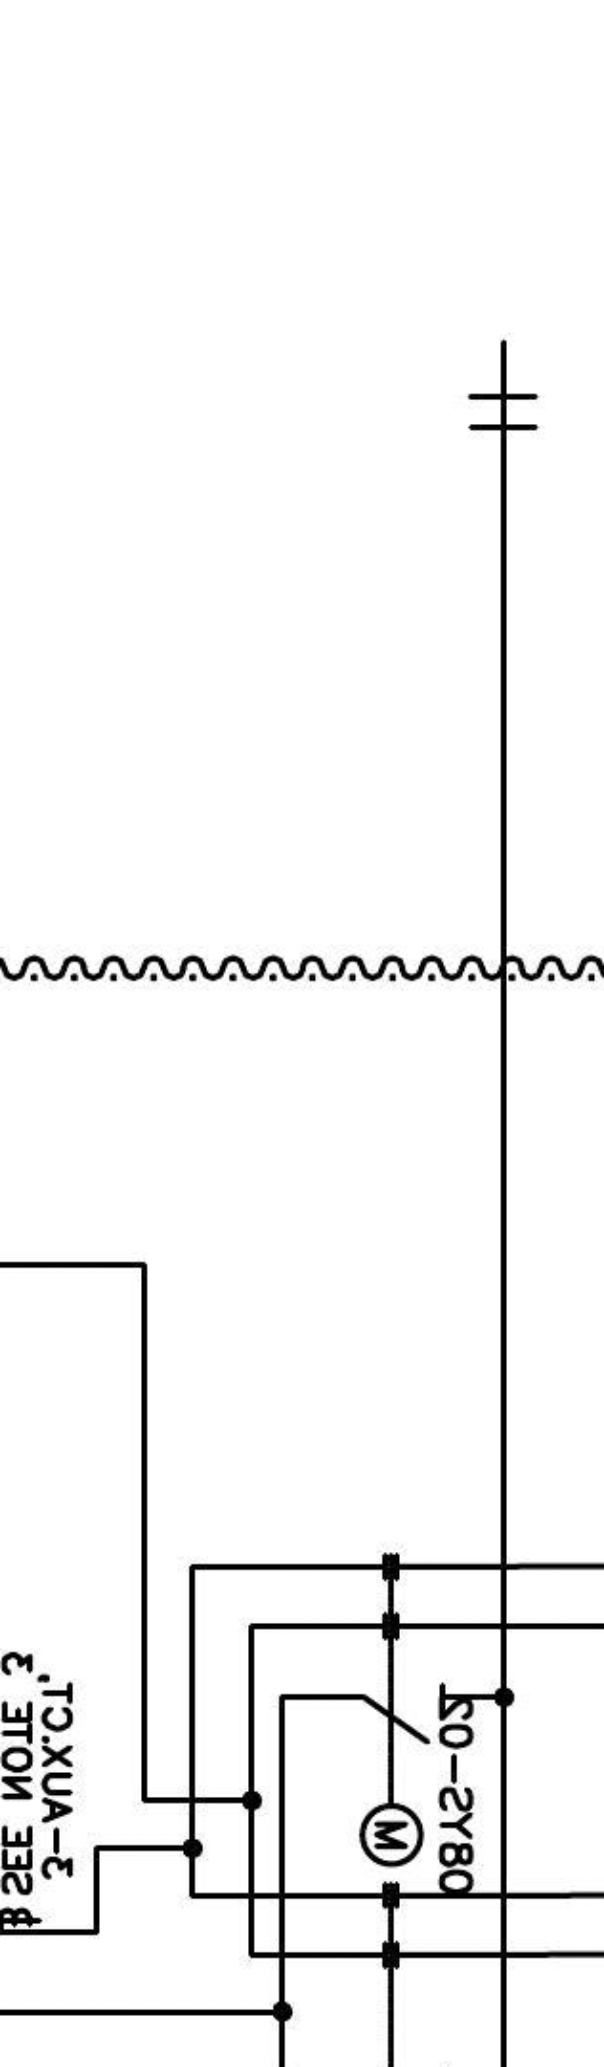115_1way_ds_w_motor: (357, 1681, 448, 1869)
115_buffer: (467, 393, 539, 430)
